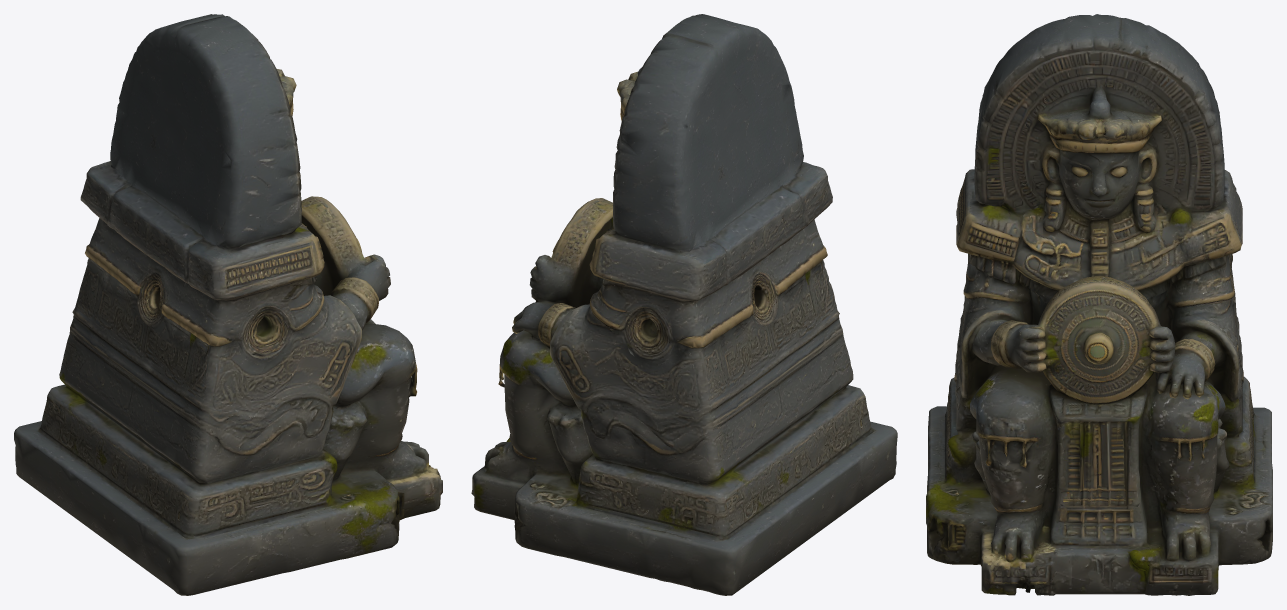
Rendered from ch6_drowned_temple_statue.glb.
The picture shows the model from 3 angles, left to right: view 1: azimuth 30°, elevation 25°; view 2: azimuth 150°, elevation 25°; view 3: azimuth 270°, elevation 25°; orthographic projection.
Visible parts, largest first — view 1: tripo_node_ed97cdbb-6704-44aa-9db0-06d1c5b0128f; view 2: tripo_node_ed97cdbb-6704-44aa-9db0-06d1c5b0128f; view 3: tripo_node_ed97cdbb-6704-44aa-9db0-06d1c5b0128f.
Part boxes in pixels (x1=…): tripo_node_ed97cdbb-6704-44aa-9db0-06d1c5b0128f: x1=14, y1=14, x2=442, y2=595; tripo_node_ed97cdbb-6704-44aa-9db0-06d1c5b0128f: x1=471, y1=14, x2=897, y2=595; tripo_node_ed97cdbb-6704-44aa-9db0-06d1c5b0128f: x1=926, y1=14, x2=1272, y2=595.
Bounding box in the file's own units: 0.6348 × 0.998 × 0.6465.
1 material, 1 textured.
